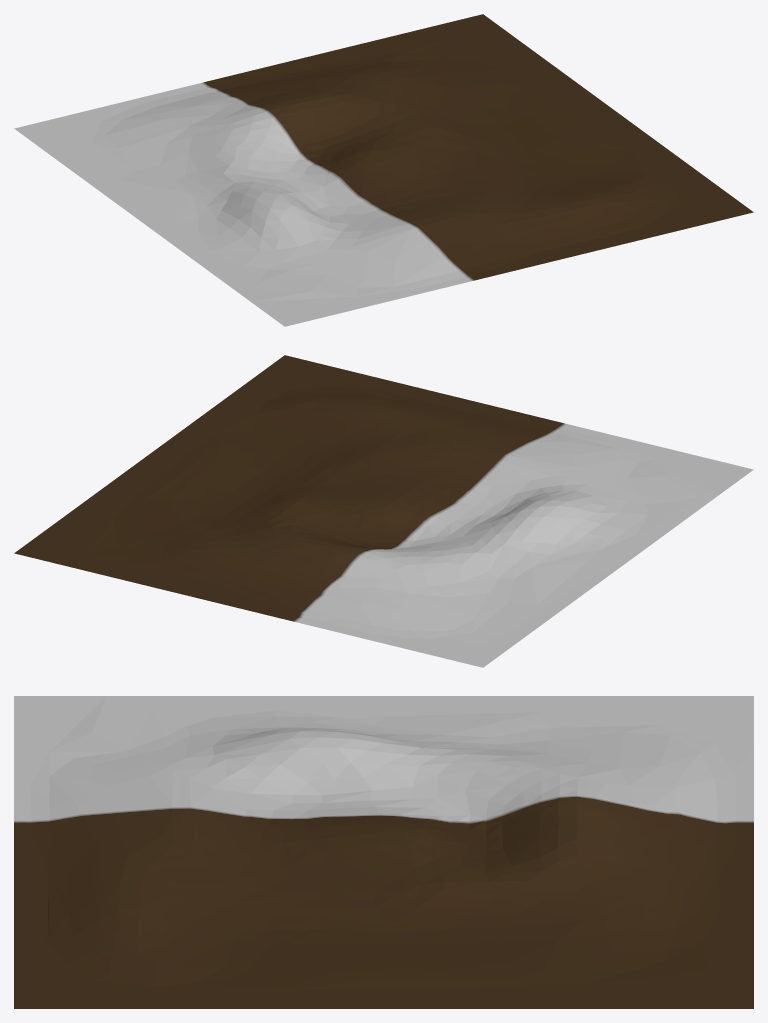
File: Terrain_02.fbx
3 views of the same model, one above another, from view 1: azimuth 30°, elevation 25°; view 2: azimuth 150°, elevation 25°; view 3: azimuth 270°, elevation 25° (orthographic). The views are drawn at different scales.
Parts seen in each view (by area): view 1: Terrain_02; view 2: Terrain_02; view 3: Terrain_02.
Boxes of the visible parts, <box> form: Terrain_02: <box>14,14,753,326</box>; Terrain_02: <box>14,355,753,667</box>; Terrain_02: <box>14,696,753,1008</box>.
Size of the model in its own units: 128 by 5.61 by 128.
